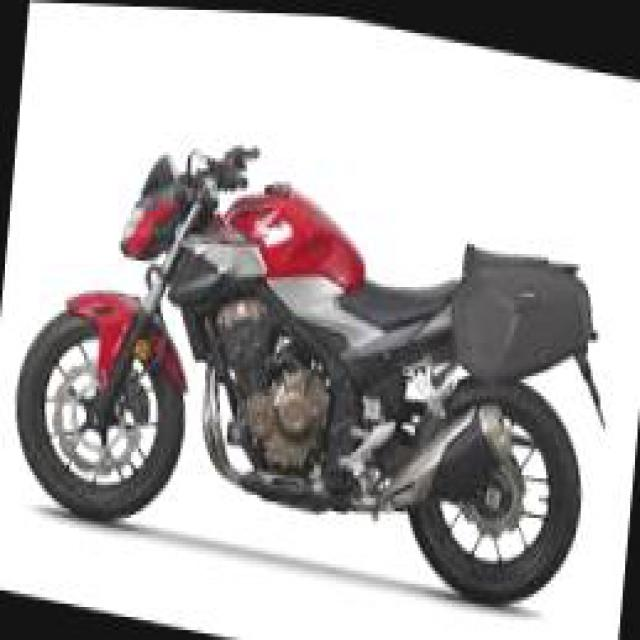CB500F: (4, 112, 606, 617)
